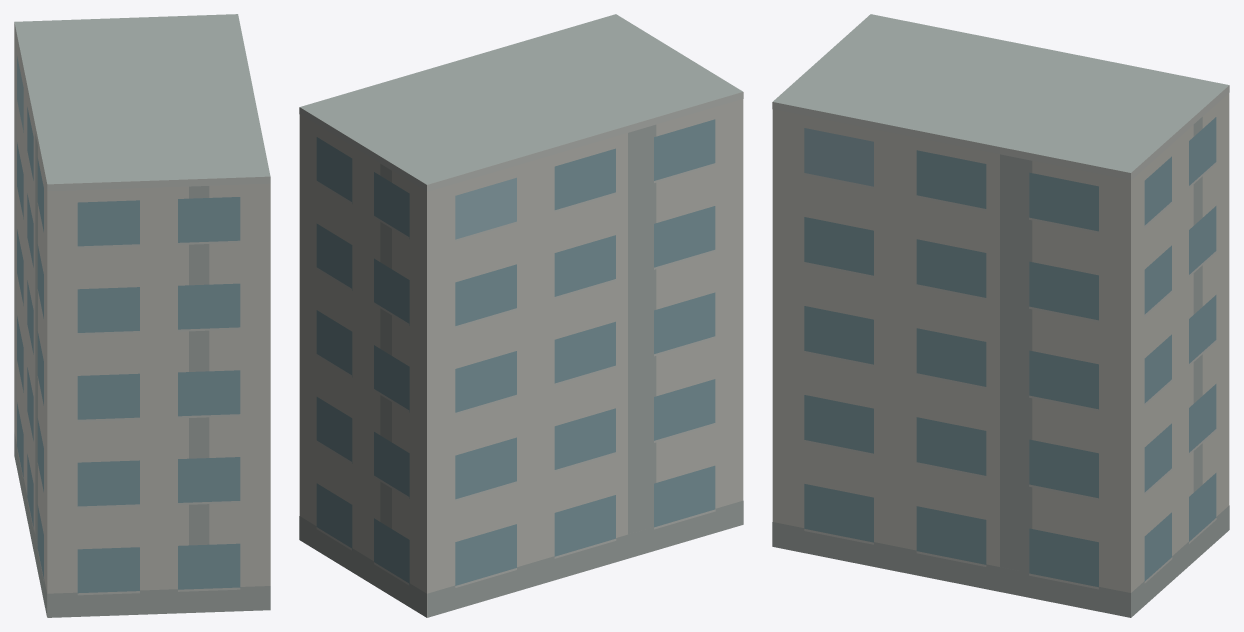
Rendered from survey-upis-32725404.glb.
3 views of the same model, side by side, from view 1: azimuth 30°, elevation 25°; view 2: azimuth 150°, elevation 25°; view 3: azimuth 270°, elevation 25° (orthographic). The views are drawn at different scales.
Visible parts, largest first — view 1: survey-upis-32725404.tmp; view 2: survey-upis-32725404.tmp; view 3: survey-upis-32725404.tmp.
Part boxes in pixels (x1,y1,x2,y2): survey-upis-32725404.tmp: [14, 14, 270, 617]; survey-upis-32725404.tmp: [299, 14, 743, 617]; survey-upis-32725404.tmp: [772, 14, 1229, 617].
Size of the model in its own units: 11.36 by 14.8 by 13.79.
